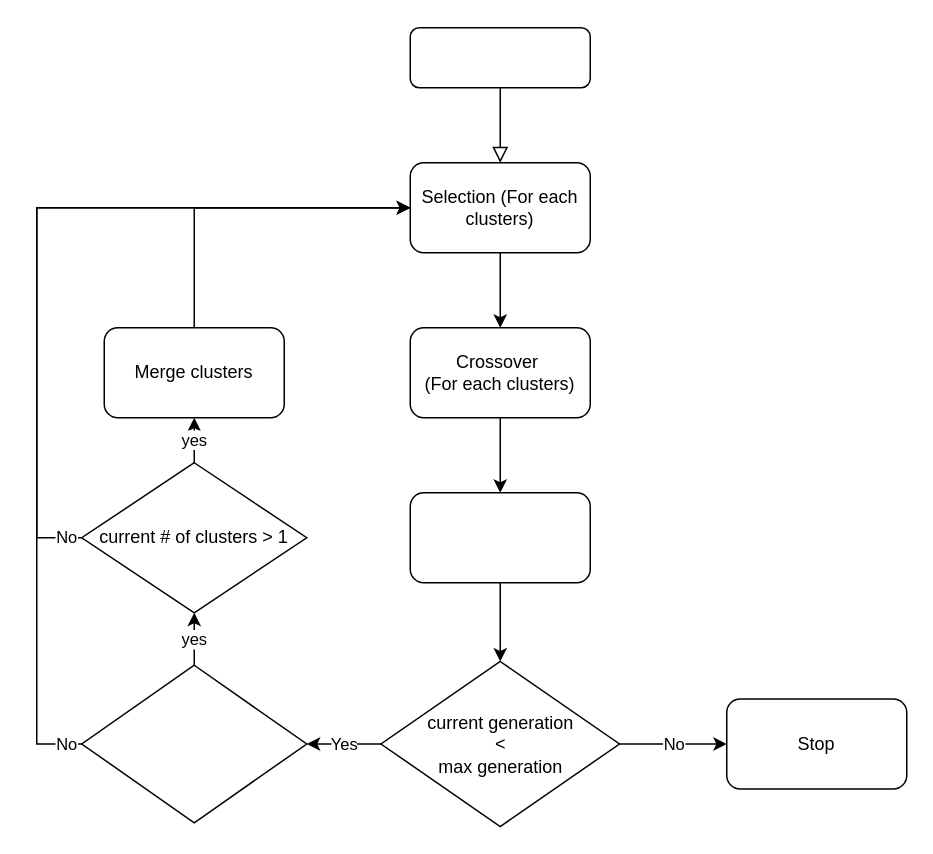
Image size: 933x854. Some labels were removed from this diagram. The centre of each missing label's shape, as x and y in pixels:
"current generation == merge generation" belongs at (x=193, y=743).
"Mutation (For each clusters)" belongs at (x=499, y=537).
"population initialization (by clusters)" belongs at (x=499, y=57).
